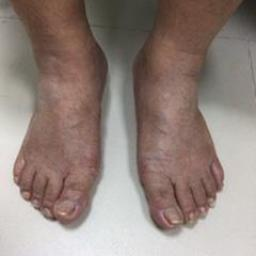Dorsal View -Both Feet-: (8, 29, 232, 236)
